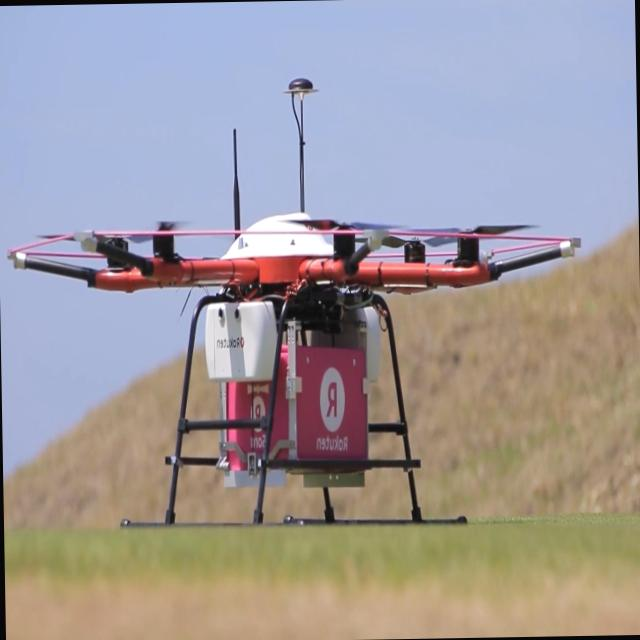drone: (1, 68, 586, 533)
